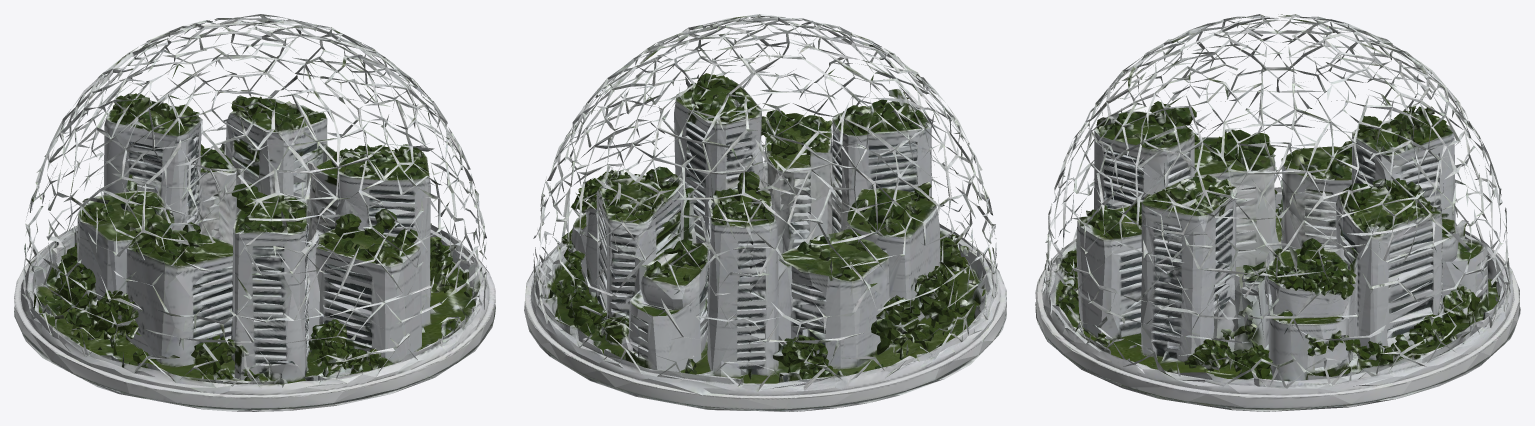
The model's file is plazirdome.glb.
3 renders of one model, left to right at view 1: azimuth 30°, elevation 25°; view 2: azimuth 150°, elevation 25°; view 3: azimuth 270°, elevation 25°, orthographic.
Visible parts, largest first — view 1: plazirdome-centred; view 2: plazirdome-centred; view 3: plazirdome-centred.
Part boxes in pixels (x1,y1,x2,y2): plazirdome-centred: [14, 14, 495, 411]; plazirdome-centred: [524, 14, 1006, 411]; plazirdome-centred: [1035, 14, 1520, 411].
Size of the model in its own units: 110 by 68.76 by 110.
1 material, 1 textured.
